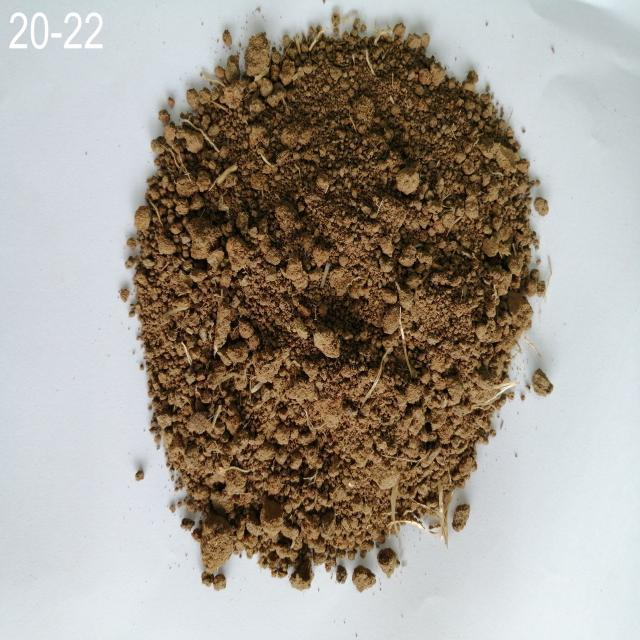soil: (196, 103, 450, 486)
